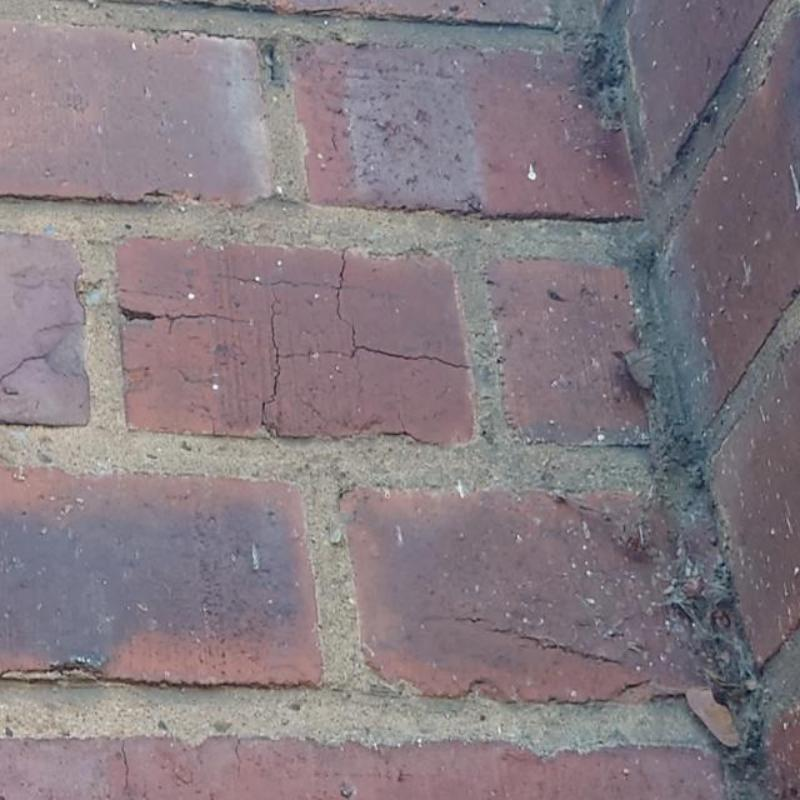crack: (259, 249, 470, 436), (480, 626, 621, 664), (123, 305, 255, 335), (0, 355, 48, 380), (218, 274, 263, 286), (120, 736, 130, 790), (235, 738, 241, 775)
